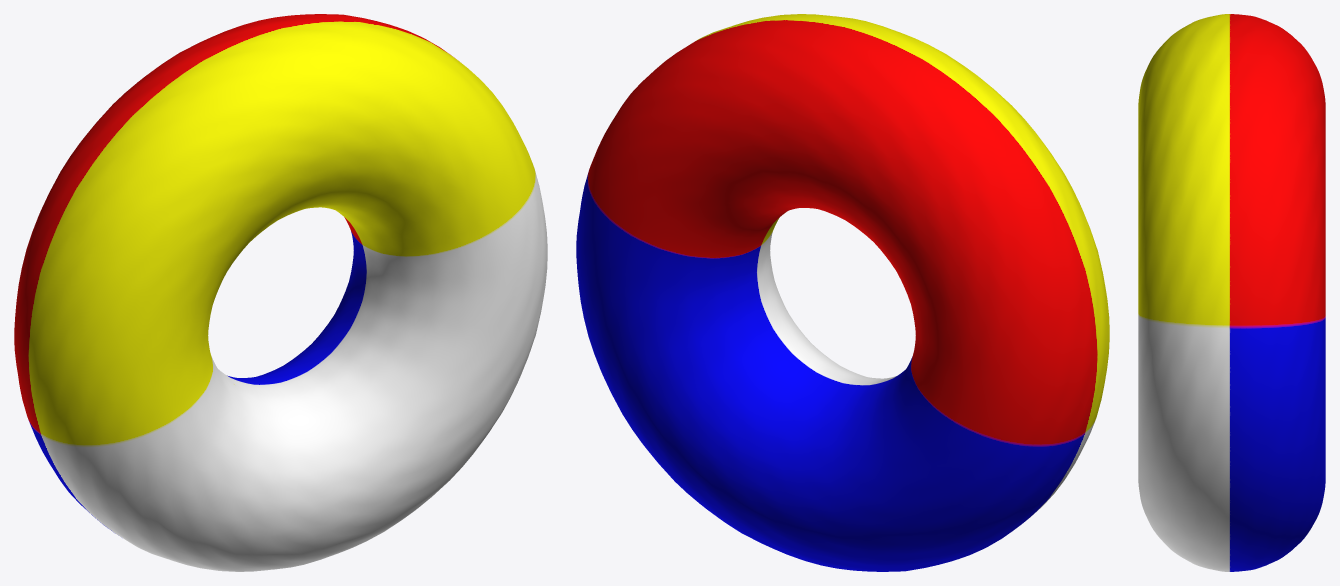
File: phon.fbx
3 renders of one model, left to right at view 1: azimuth 30°, elevation 25°; view 2: azimuth 150°, elevation 25°; view 3: azimuth 270°, elevation 25°, orthographic. The views are drawn at different scales.
Parts seen in each view (by area): view 1: pTorus1; view 2: pTorus1; view 3: pTorus1.
Boxes of the visible parts, x1,y1,x2,y2 form: pTorus1: (14, 14, 547, 571); pTorus1: (576, 14, 1109, 571); pTorus1: (1138, 14, 1325, 571).
Bounding box in the file's own units: 2.95 × 2.95 × 0.9891.
Materials: 1 (1 with a texture image).
